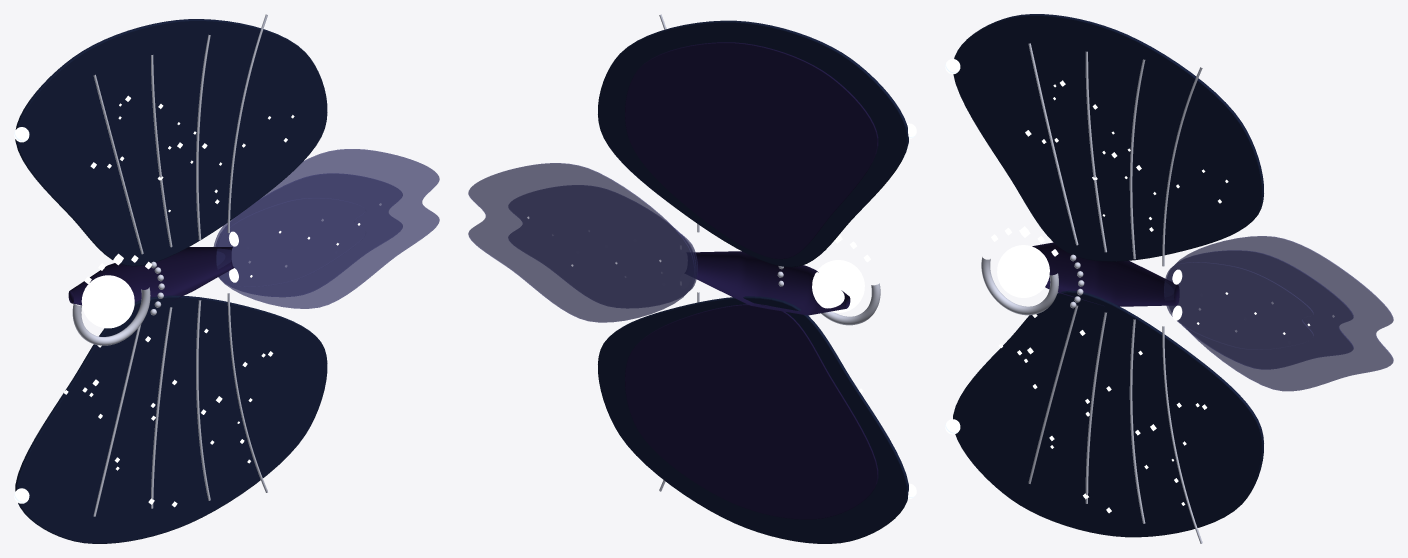
File: nyx.glb
3 renders of one model, left to right at view 1: azimuth 30°, elevation 25°; view 2: azimuth 150°, elevation 25°; view 3: azimuth 330°, elevation 25°, orthographic.
Visible parts, largest first — view 1: wing_L_cloth, wing_R_cloth, veil, body, core, crown_crescent, wing_L_fold_3, wing_L_fold_2, wing_R_fold_1, wing_R_fold_2, wing_R_fold_0, wing_R_fold_3 (+2 smaller); view 2: wing_L_lining, wing_R_lining, veil, wing_L_cloth, wing_R_cloth, body, core, crown_crescent; view 3: wing_L_cloth, wing_R_cloth, veil, body, core, crown_crescent, wing_L_fold_0, wing_R_fold_2, wing_R_fold_3, wing_L_fold_1, wing_L_fold_2, wing_R_fold_1 (+2 smaller).
Part boxes in pixels (left/top/right/bottom): wing_L_cloth: left=15, top=19, right=327, bottom=266; wing_R_cloth: left=15, top=295, right=327, bottom=543; veil: left=213, top=149, right=439, bottom=308; body: left=68, top=247, right=234, bottom=308; core: left=81, top=275, right=134, bottom=328; crown_crescent: left=72, top=287, right=150, bottom=345; wing_L_fold_3: left=227, top=14, right=267, bottom=232; wing_L_fold_2: left=196, top=34, right=210, bottom=240; wing_R_fold_1: left=151, top=307, right=172, bottom=508; wing_R_fold_2: left=196, top=300, right=210, bottom=500; wing_R_fold_0: left=93, top=324, right=141, bottom=516; wing_R_fold_3: left=227, top=293, right=267, bottom=492; wing_L_lining: left=625, top=42, right=878, bottom=259; wing_R_lining: left=625, top=304, right=878, bottom=519; veil: left=468, top=163, right=697, bottom=322; wing_L_cloth: left=598, top=20, right=908, bottom=267; wing_R_cloth: left=598, top=296, right=908, bottom=543; body: left=694, top=251, right=850, bottom=315; core: left=812, top=260, right=864, bottom=312; crown_crescent: left=821, top=283, right=880, bottom=325; wing_L_cloth: left=953, top=14, right=1263, bottom=261; wing_R_cloth: left=953, top=290, right=1263, bottom=537; veil: left=1164, top=236, right=1393, bottom=391; body: left=1032, top=242, right=1179, bottom=306; core: left=997, top=245, right=1049, bottom=297; crown_crescent: left=981, top=257, right=1058, bottom=315; wing_L_fold_0: left=1028, top=43, right=1078, bottom=245; wing_R_fold_2: left=1129, top=319, right=1145, bottom=523; wing_R_fold_3: left=1162, top=326, right=1202, bottom=543; wing_L_fold_1: left=1085, top=51, right=1106, bottom=252; wing_L_fold_2: left=1129, top=59, right=1145, bottom=259; wing_R_fold_1: left=1085, top=312, right=1106, bottom=503.
Bounding box in the file's own units: 911 × 1019 × 124.
